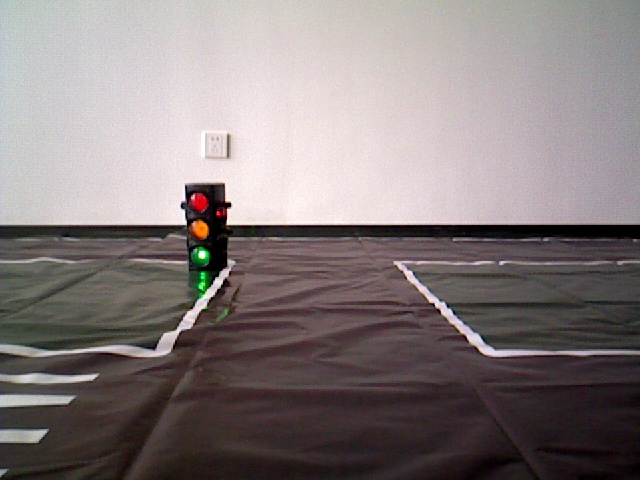green: (183, 188, 224, 268)
